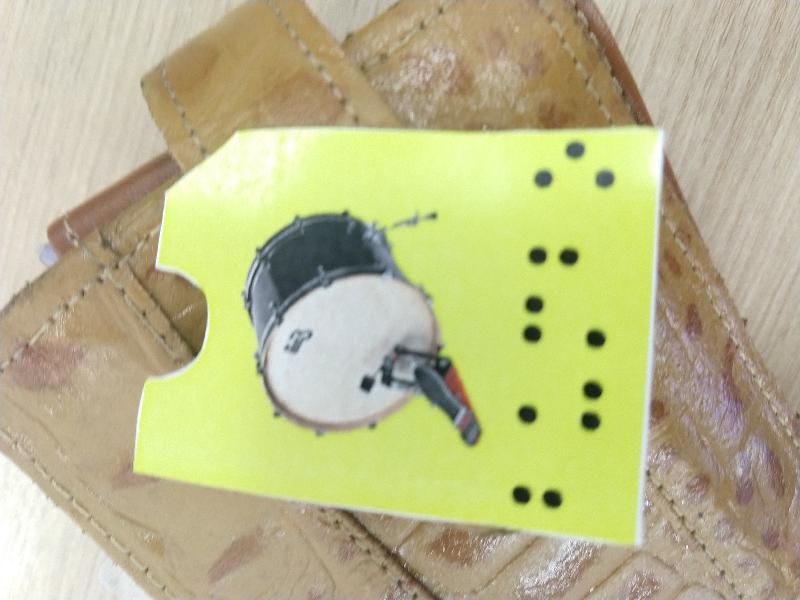bumbo: (127, 120, 668, 552)
